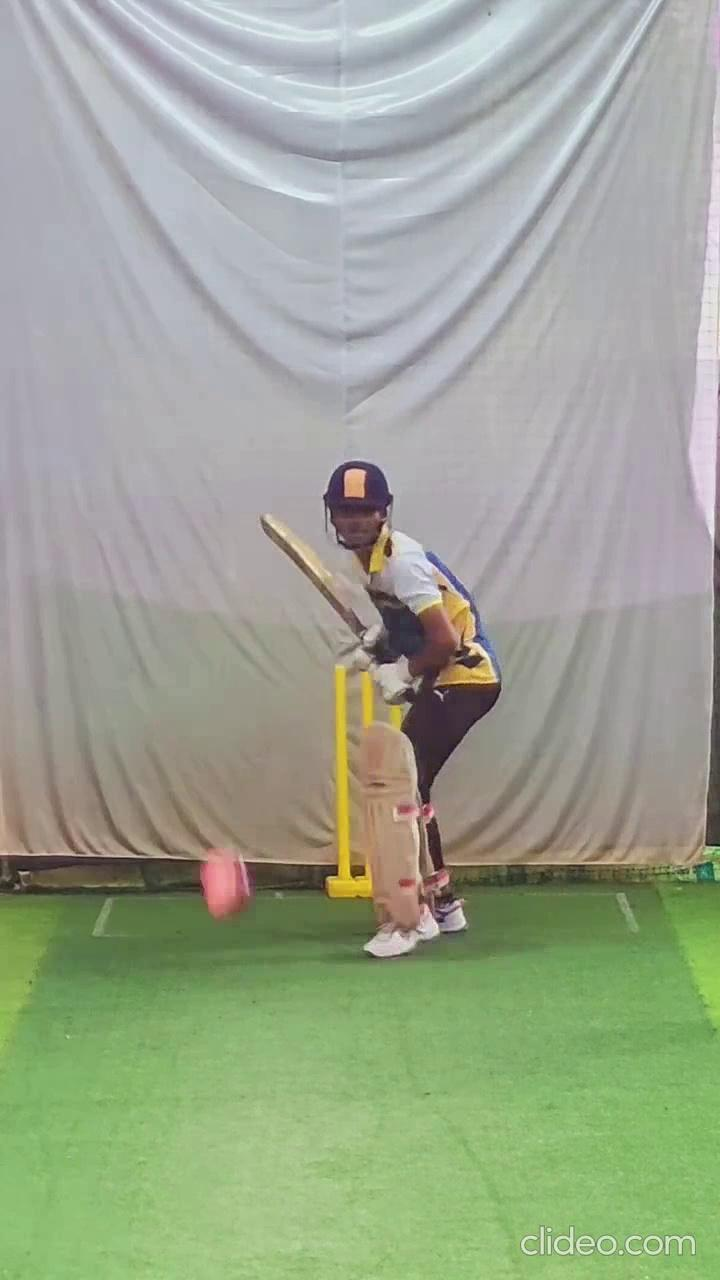bat: (252, 501, 373, 648)
